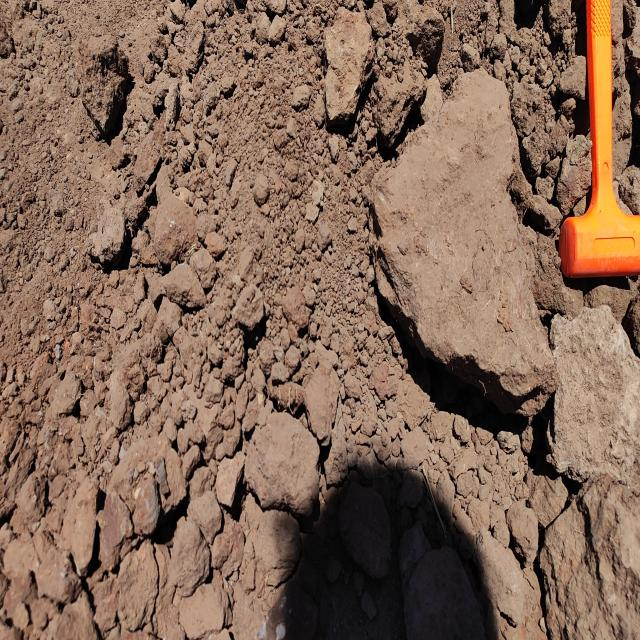Orange_hammer: (558, 1, 639, 280)
